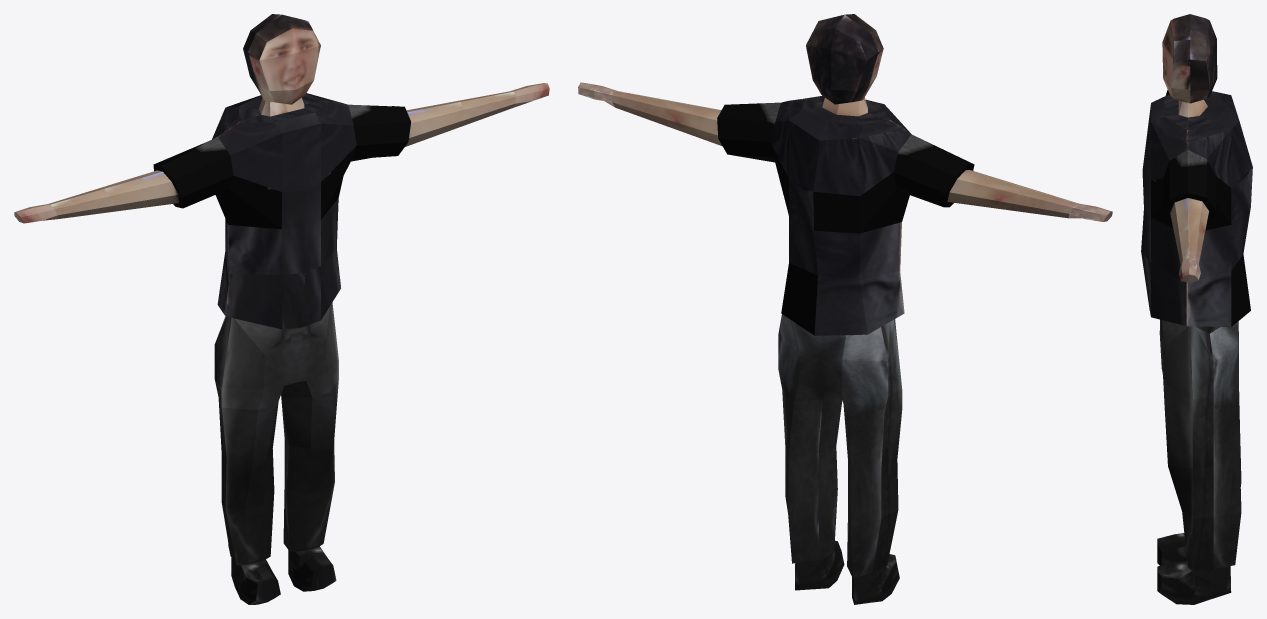
Rendered from mike.fbx.
The picture shows the model from 3 angles, left to right: view 1: azimuth 30°, elevation 25°; view 2: azimuth 150°, elevation 25°; view 3: azimuth 270°, elevation 25°; orthographic projection.
Parts seen in each view (by area): view 1: Cube; view 2: Cube; view 3: Cube.
Part boxes in pixels (box(x1,y1,x2,y2)): Cube: box(14, 14, 549, 604); Cube: box(578, 14, 1112, 604); Cube: box(1141, 14, 1252, 604).
Bounding box in the file's own units: 279 × 51.32 × 290.
1 material, 1 textured.
